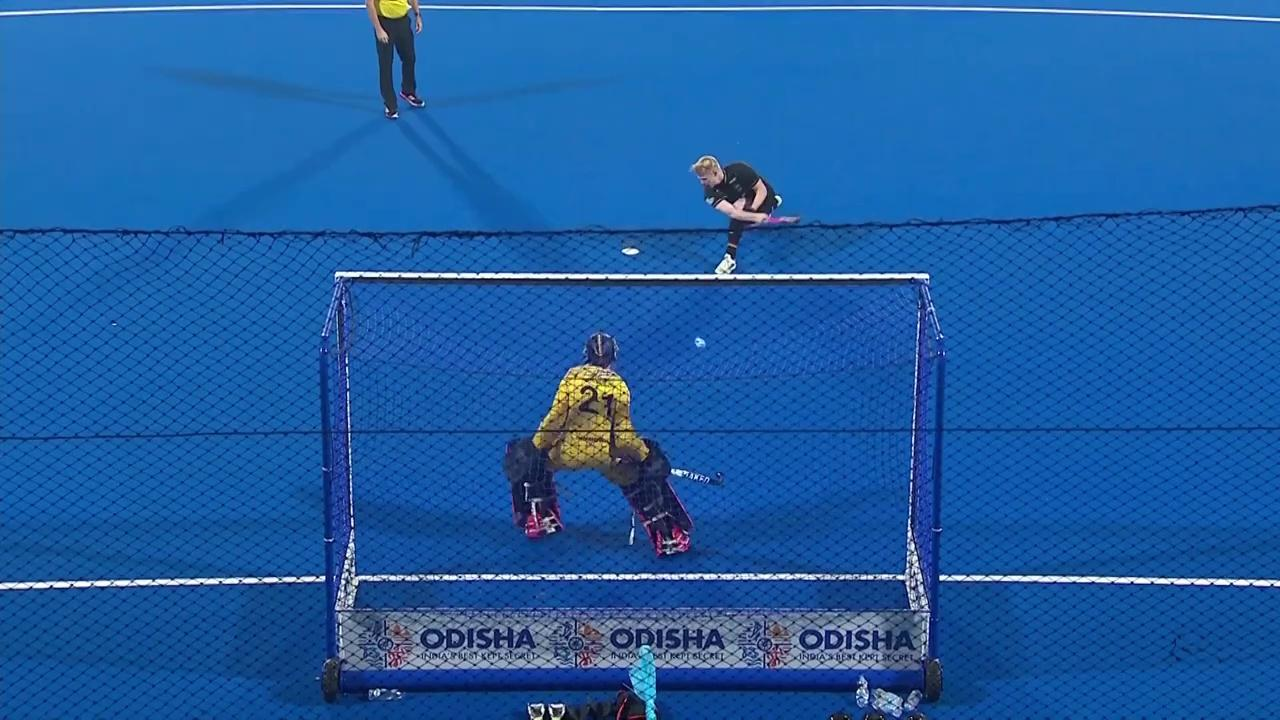ball: (689, 330, 711, 352)
